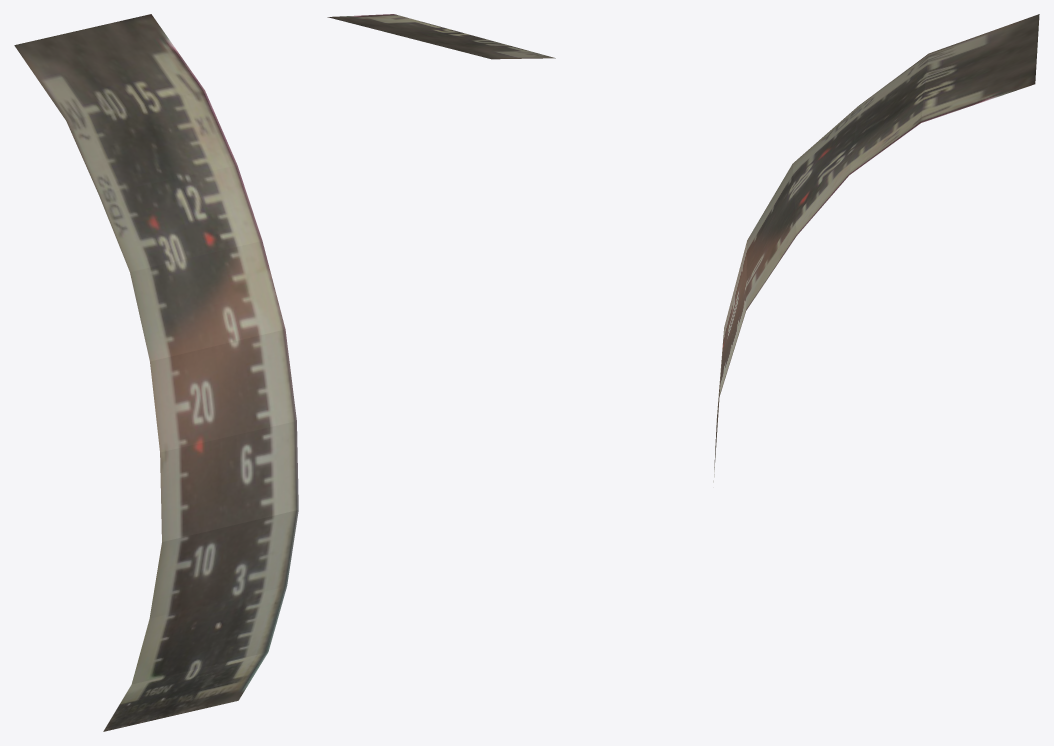
Rendered from Unity2Skfb.gltf.
The picture shows the model from 3 angles, left to right: view 1: azimuth 30°, elevation 25°; view 2: azimuth 150°, elevation 25°; view 3: azimuth 270°, elevation 25°; orthographic projection. The views are drawn at different scales.
Visible parts, largest first — view 1: node_A23_-5252; view 2: node_A23_-5252; view 3: node_A23_-5252.
Boxes of the visible parts, x1,y1,x2,y2 form: node_A23_-5252: [14, 14, 298, 731]; node_A23_-5252: [327, 14, 555, 59]; node_A23_-5252: [713, 14, 1039, 482].
Bounding box in the file's own units: 0.0577 × 0.237 × 0.1074.
1 material, 1 textured.
